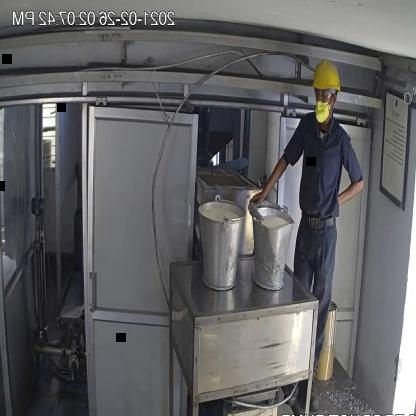helmet: (300, 60, 346, 98)
